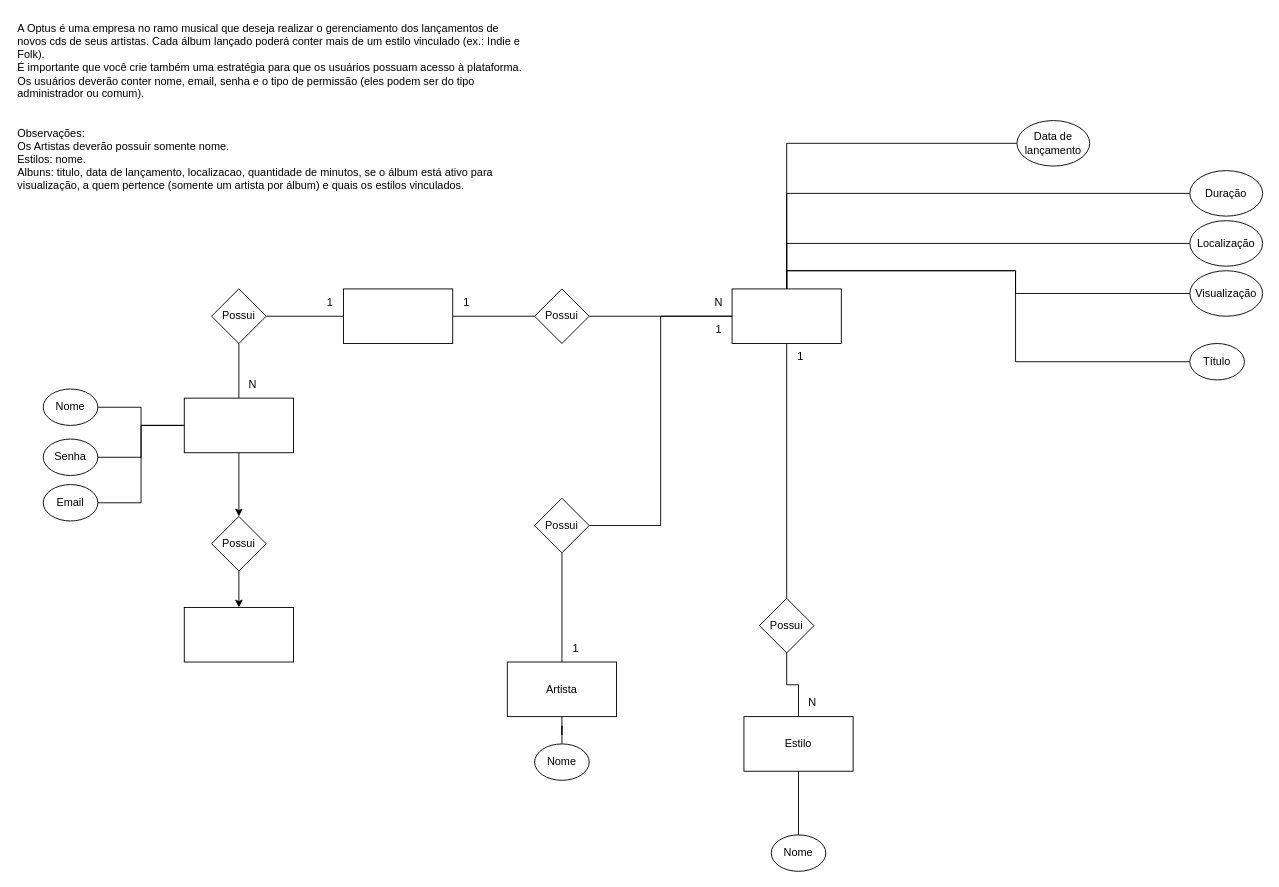
This 1279x887 diagram has some shape labels left out. The centre of each missing label's shape, as x and y in pixels:
"Optus" goes at [398,316].
"Permissão" goes at [238,634].
"Usuário" goes at [238,425].
"Álbum" goes at [786,316].
